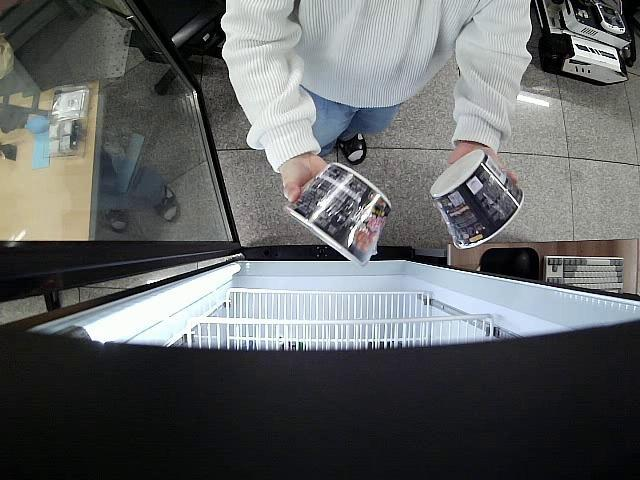07_buldak_L: (284, 162, 394, 270), (427, 148, 522, 248)
